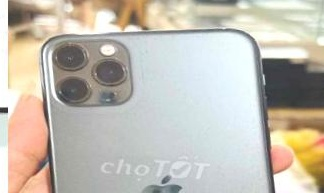scratch: (119, 26, 255, 74), (52, 34, 89, 62)
